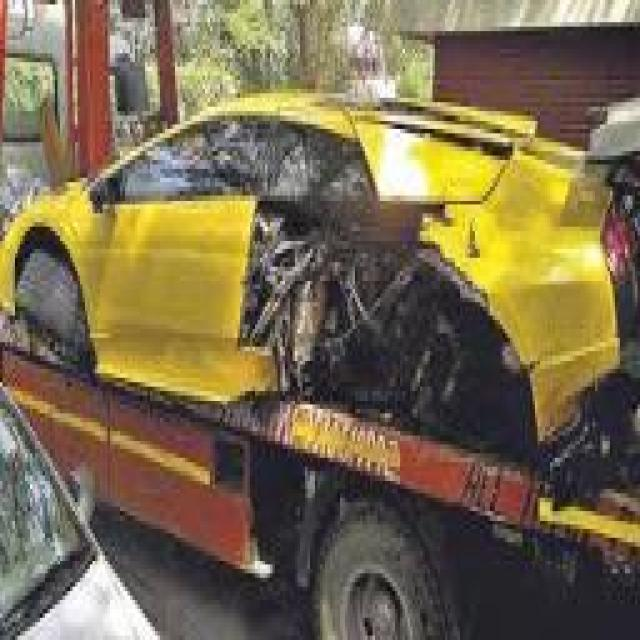Bumper: (547, 356, 640, 527)
Fender: (235, 112, 542, 453)
